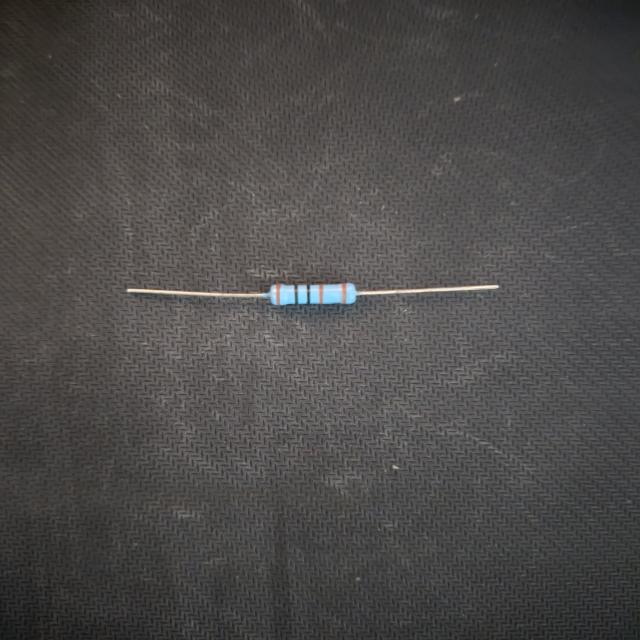resistor: (110, 258, 510, 314)
